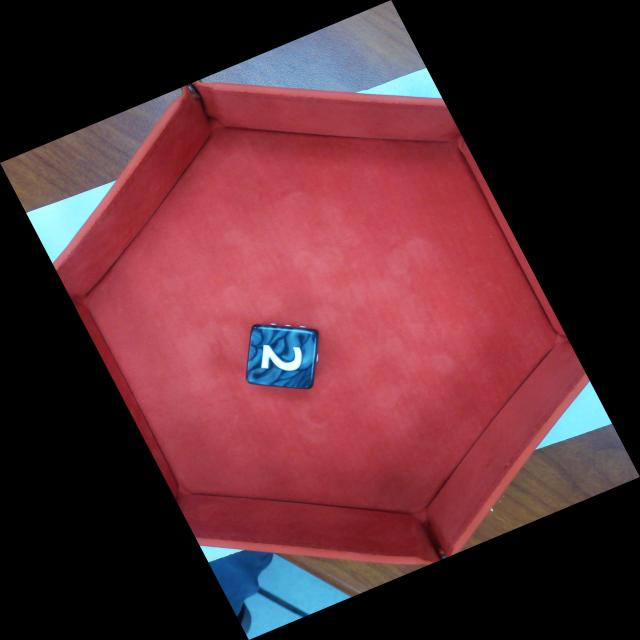dice: (245, 324, 319, 392)
